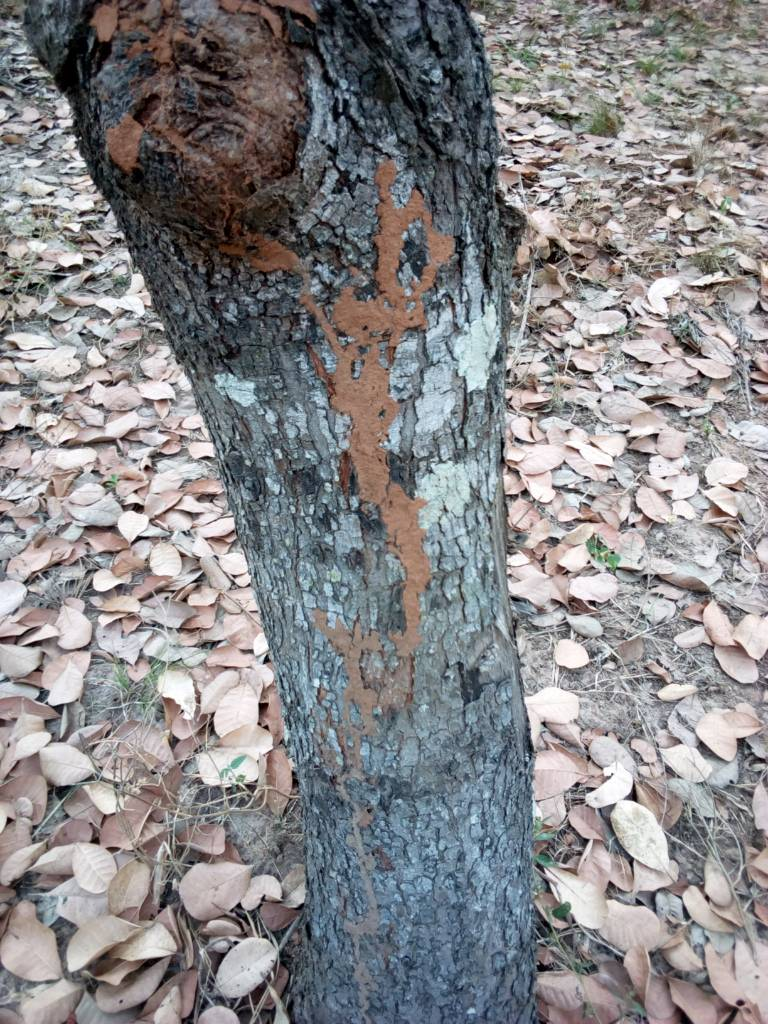Termites: (319, 213, 447, 944), (82, 1, 313, 266)
